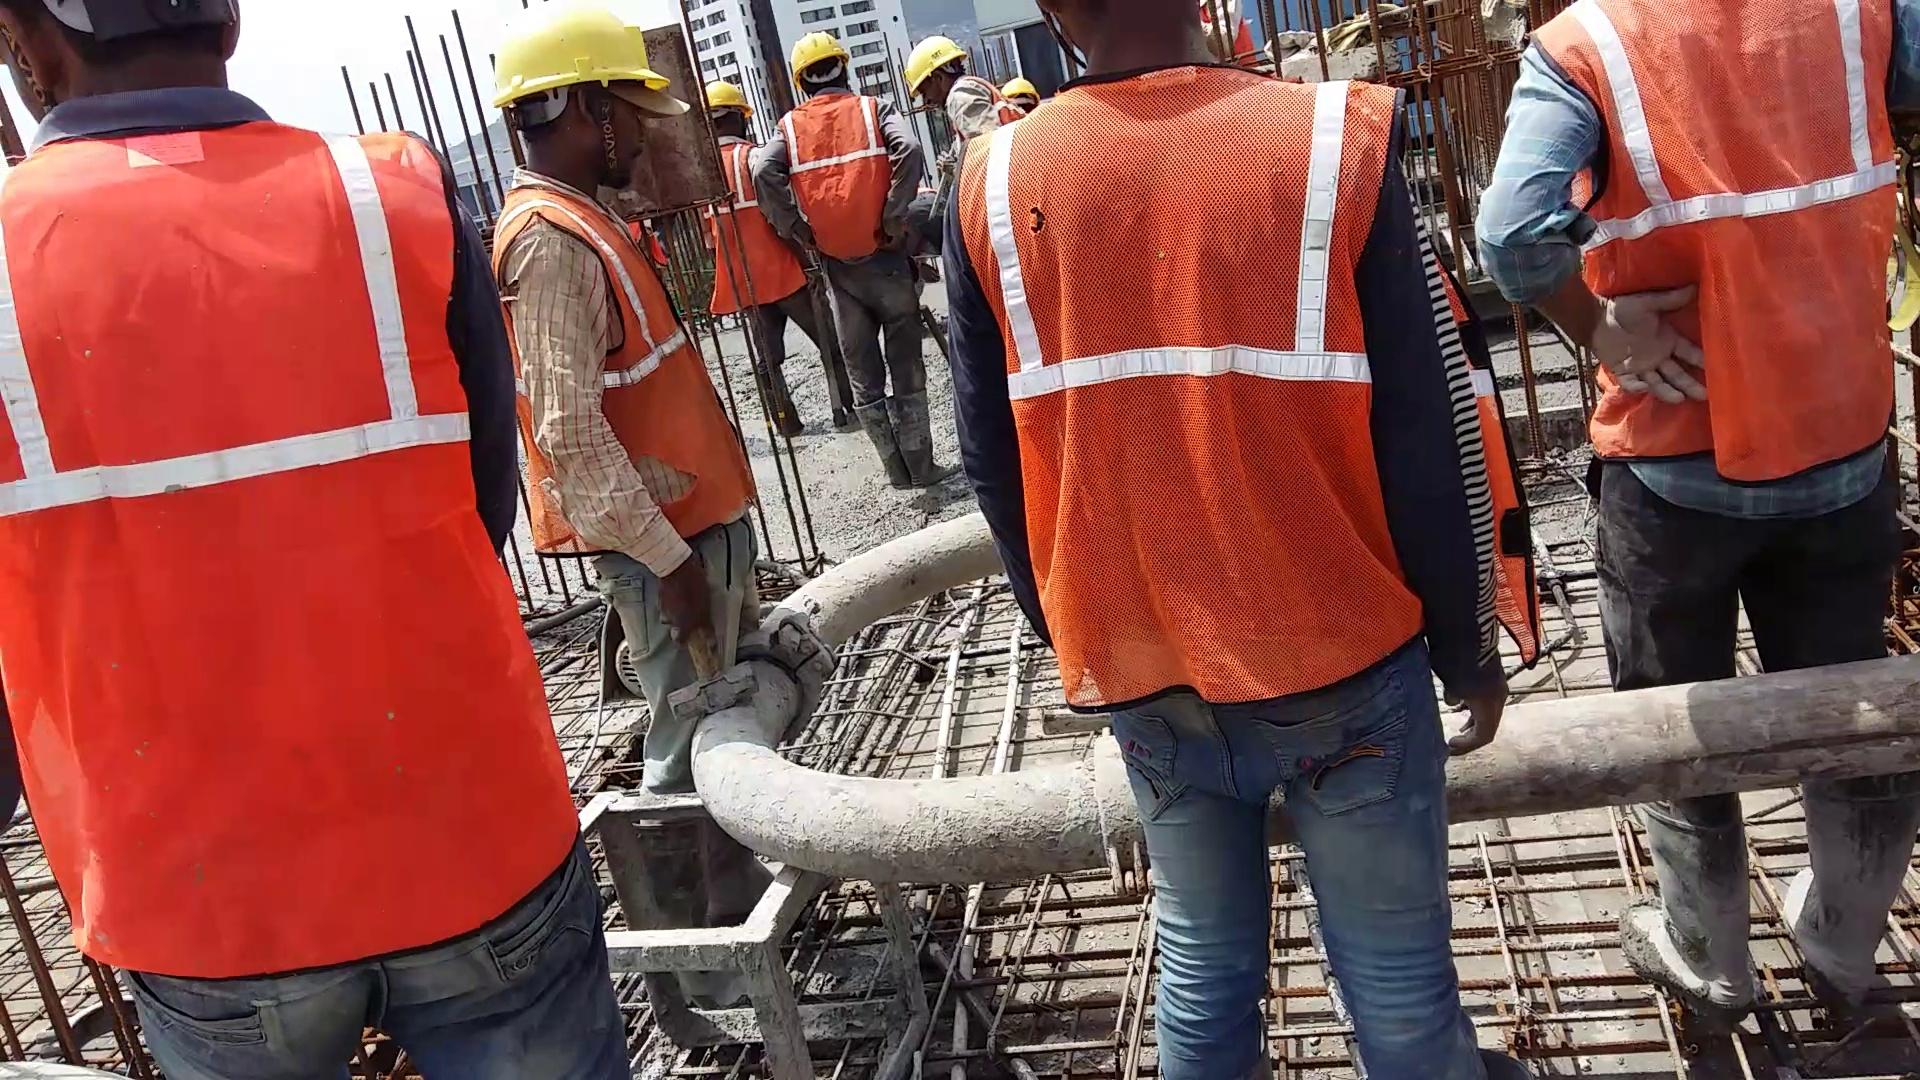SAFE: (491, 3, 707, 558), (786, 33, 877, 270), (709, 74, 758, 295)
